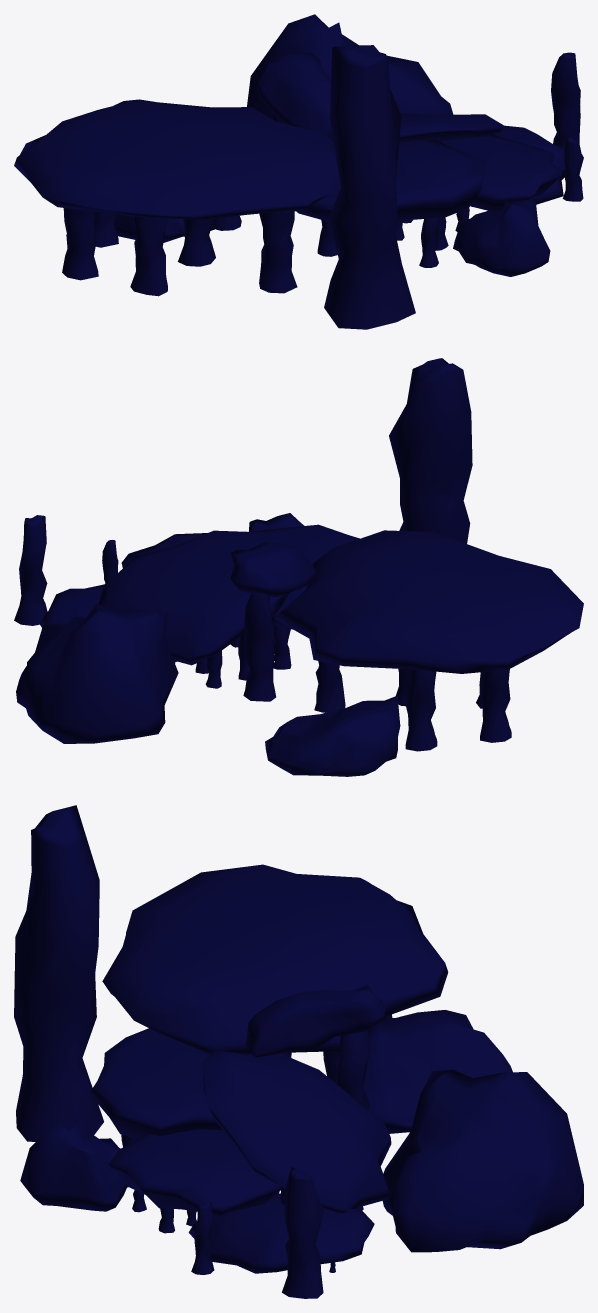
Rendered from RockyStaircase_mesh.fbx.
3 renders of one model, top to bottom at view 1: azimuth 30°, elevation 25°; view 2: azimuth 150°, elevation 25°; view 3: azimuth 270°, elevation 25°, orthographic. The views are drawn at different scales.
Visible parts, largest first — view 1: RockStaircase; view 2: RockStaircase; view 3: RockStaircase.
Part boxes in pixels (x1=…): RockStaircase: x1=14, y1=14, x2=583, y2=329; RockStaircase: x1=14, y1=358, x2=583, y2=776; RockStaircase: x1=14, y1=805, x2=583, y2=1298.
Bounding box in the file's own units: 110 × 53.47 × 85.71.
